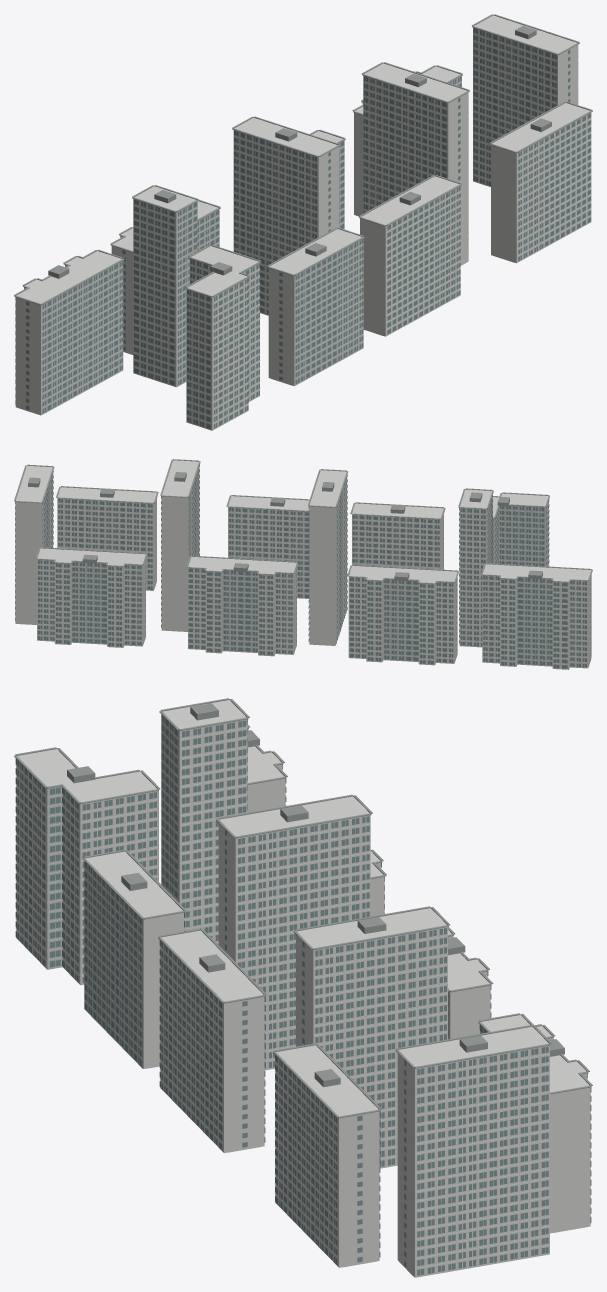
The model's file is representative-a13592605.glb.
The picture shows the model from 3 angles, top to bottom: view 1: azimuth 30°, elevation 25°; view 2: azimuth 150°, elevation 25°; view 3: azimuth 270°, elevation 25°; orthographic projection. The views are drawn at different scales.
Parts seen in each view (by area): view 1: A13592605_wall001, A13592605_glass001, A13592605_trim001, A13592605_accent001, A13592605_roof001; view 2: A13592605_wall001, A13592605_glass001, A13592605_trim001, A13592605_accent001, A13592605_roof001; view 3: A13592605_wall001, A13592605_glass001, A13592605_trim001, A13592605_roof001, A13592605_accent001.
Boxes of the visible parts, x1,y1,x2,y2 form: A13592605_wall001: [15, 15, 591, 430]; A13592605_glass001: [15, 28, 591, 428]; A13592605_trim001: [15, 29, 591, 427]; A13592605_accent001: [41, 76, 461, 421]; A13592605_roof001: [14, 14, 592, 304]; A13592605_wall001: [15, 460, 591, 669]; A13592605_glass001: [15, 465, 590, 668]; A13592605_trim001: [37, 479, 587, 667]; A13592605_accent001: [72, 498, 552, 666]; A13592605_roof001: [14, 459, 592, 584]; A13592605_wall001: [16, 700, 590, 1277]; A13592605_glass001: [15, 714, 591, 1275]; A13592605_trim001: [15, 716, 549, 1274]; A13592605_roof001: [14, 698, 592, 1118]; A13592605_accent001: [47, 717, 487, 1068].
Size of the model in its own units: 259 by 69.8 by 150.
